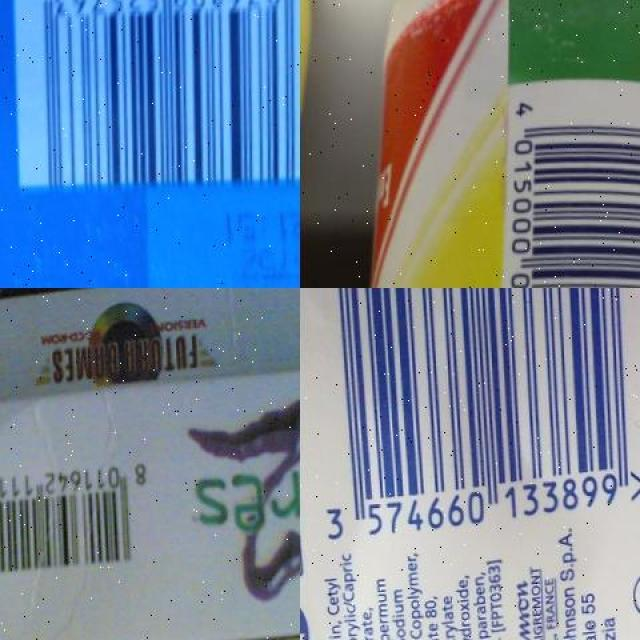Barcode: (304, 288, 640, 549), (6, 0, 300, 205), (486, 78, 640, 288), (0, 456, 152, 593)
